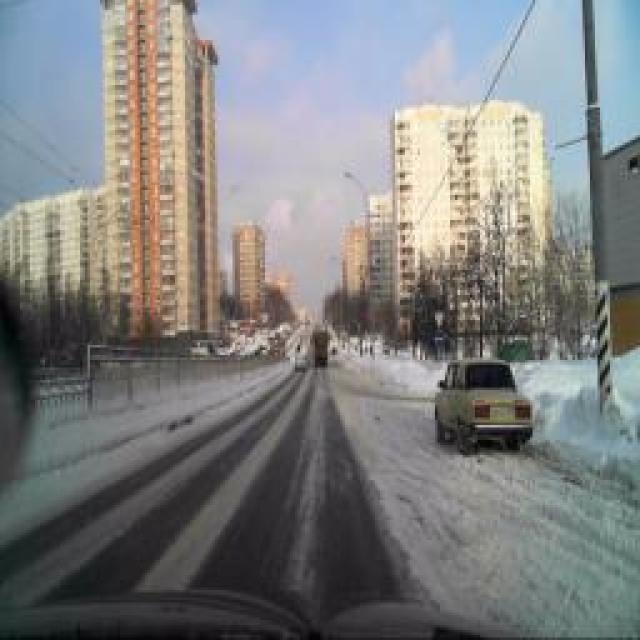sign: (434, 329, 446, 349)
